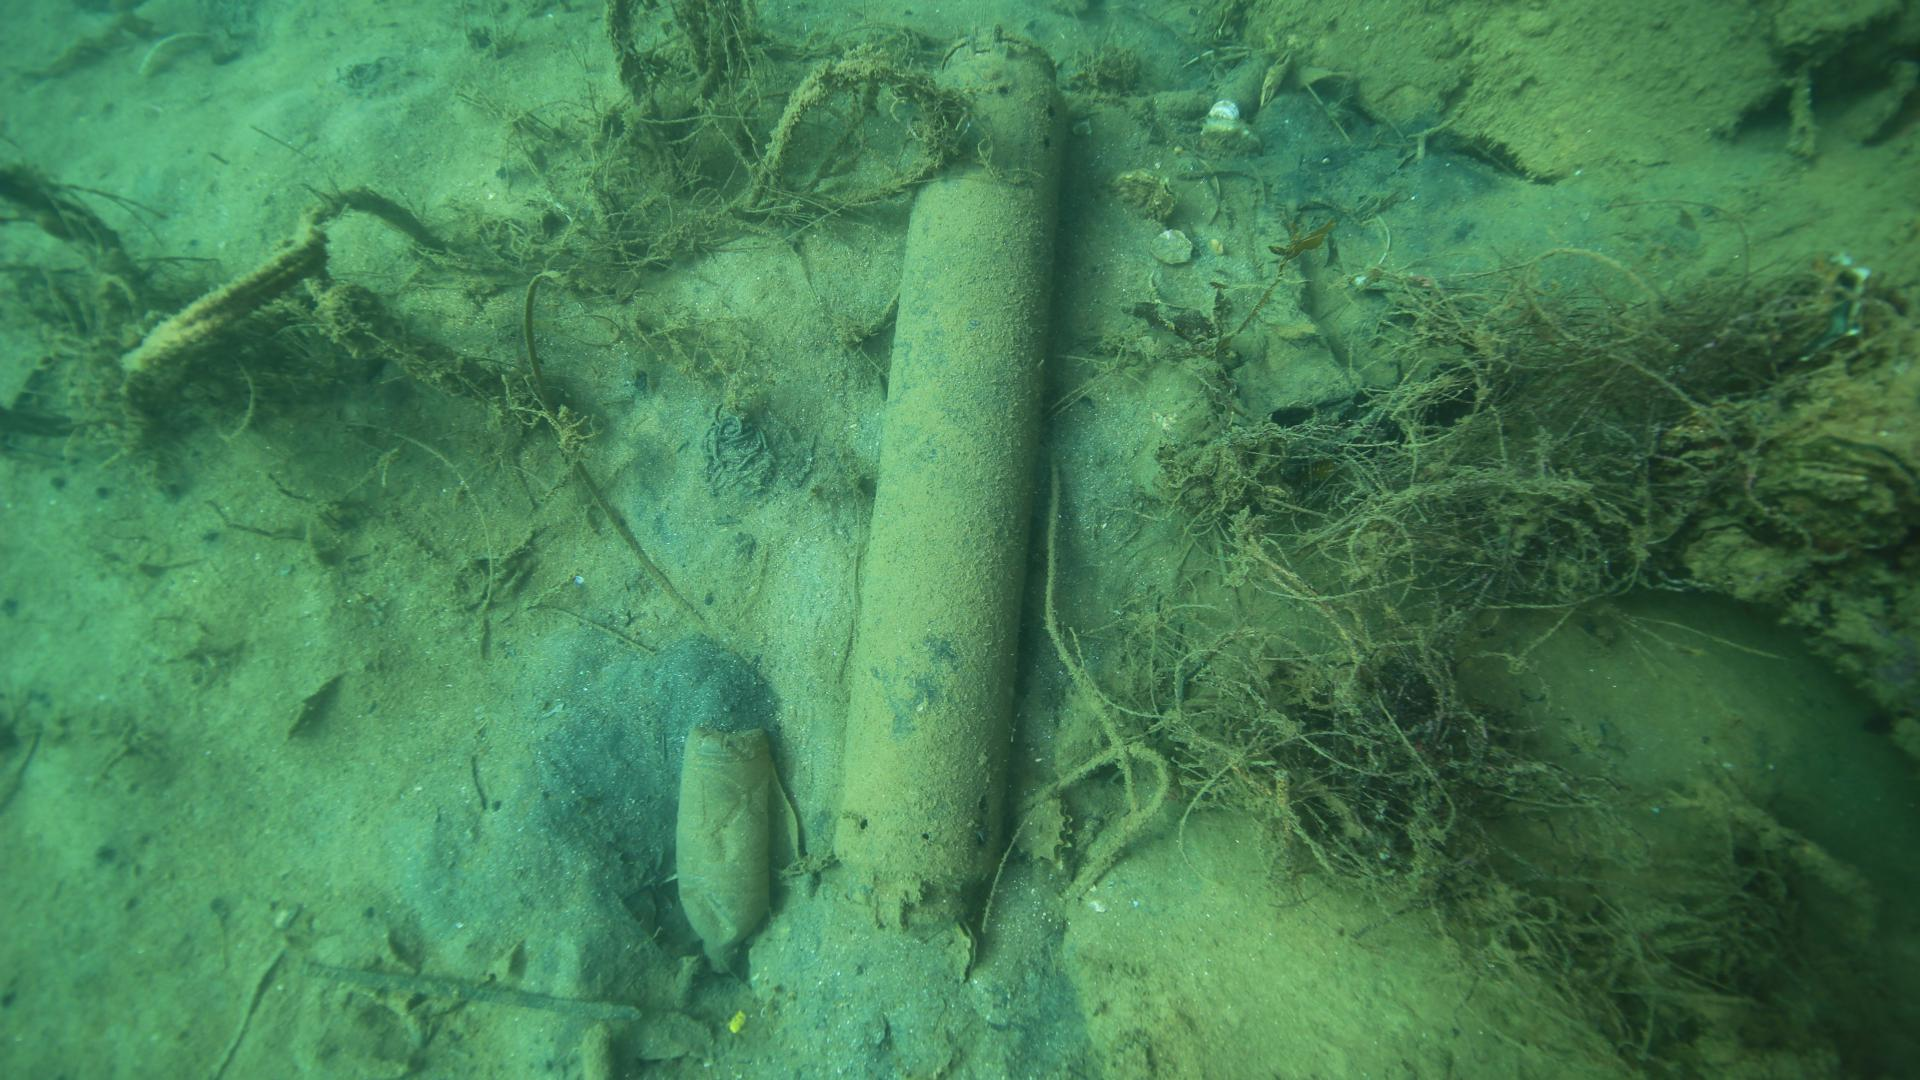eel fish trap: (825, 28, 1069, 934)
